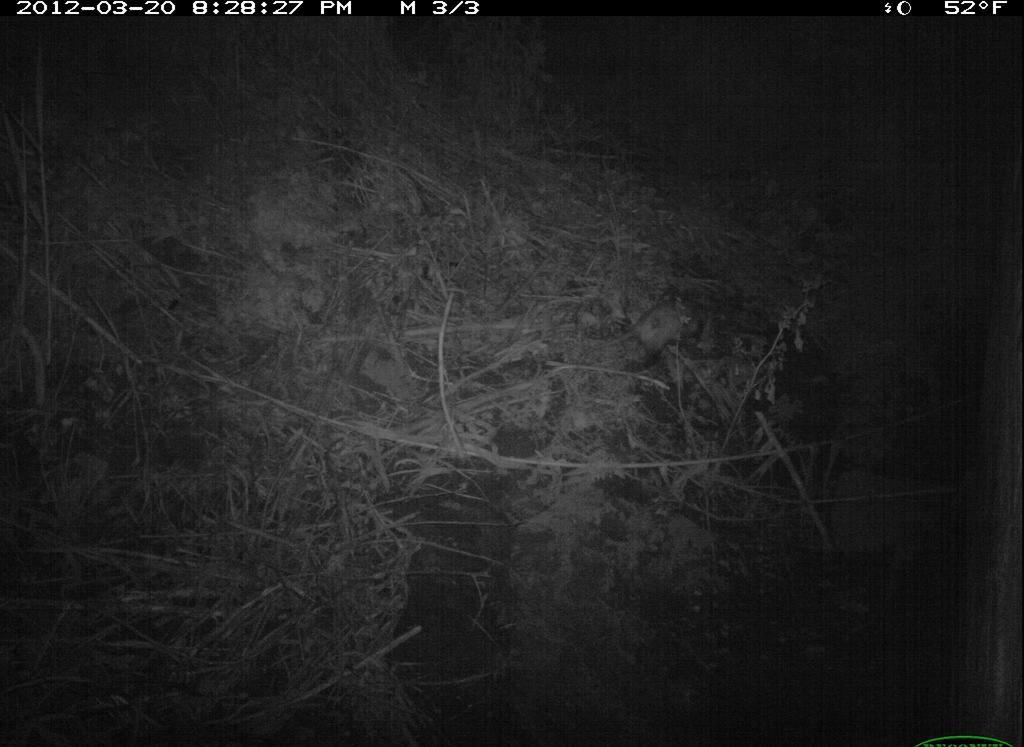opossum: (588, 282, 721, 368)
